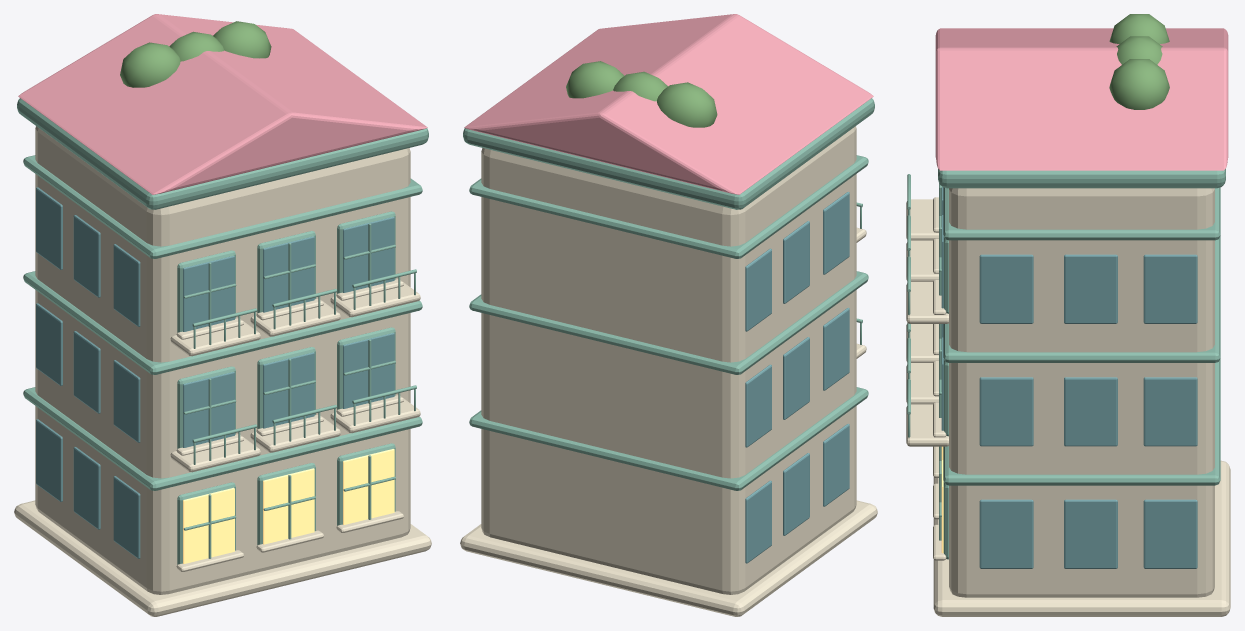
The model's file is apartment.glb.
3 views of the same model, side by side, from view 1: azimuth 30°, elevation 25°; view 2: azimuth 150°, elevation 25°; view 3: azimuth 270°, elevation 25° (orthographic). The views are drawn at different scales.
Parts seen in each view (by area): view 1: apartment; view 2: apartment; view 3: apartment.
Part boxes in pixels (bbox=[...]): apartment: bbox=[14, 14, 431, 616]; apartment: bbox=[460, 14, 877, 616]; apartment: bbox=[906, 14, 1230, 616].
Bounding box in the file's own units: 7.8 × 12.65 × 7.31.
